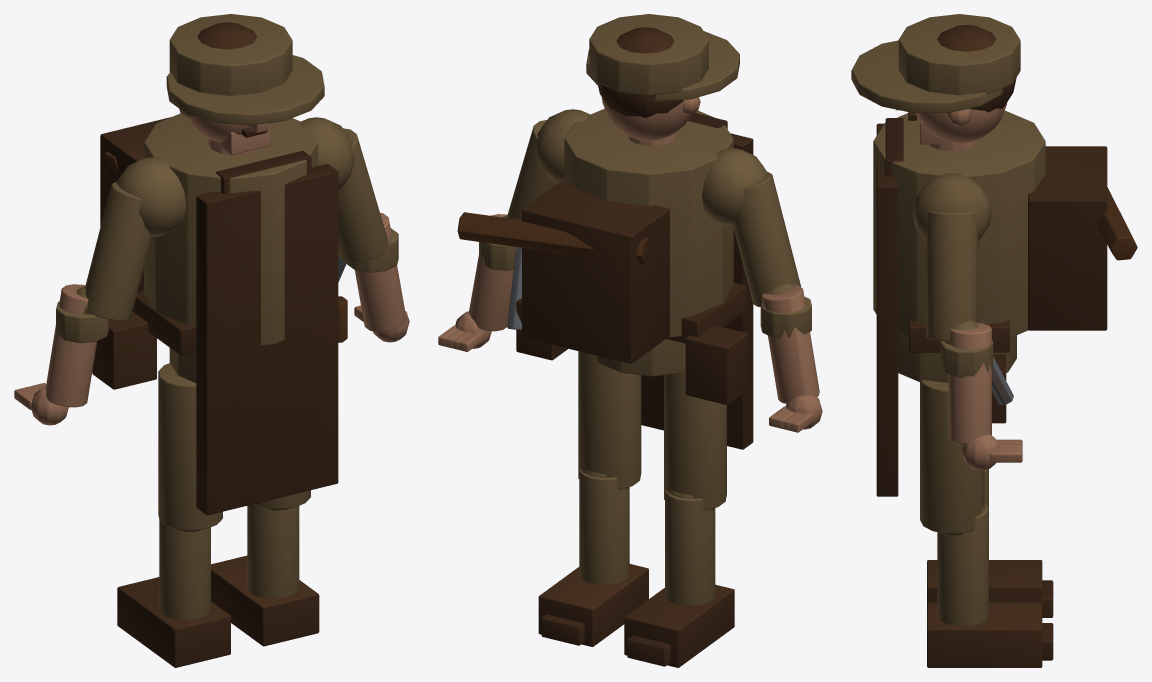
Rendered from unit_builder.fbx.
3 views of the same model, side by side, from view 1: azimuth 30°, elevation 25°; view 2: azimuth 150°, elevation 25°; view 3: azimuth 270°, elevation 25° (orthographic). The views are drawn at different scales.
Parts seen in each view (by area): view 1: unit_royal_builder; view 2: unit_royal_builder; view 3: unit_royal_builder.
Part boxes in pixels (x1,y1,x2,y2): unit_royal_builder: [14, 14, 409, 667]; unit_royal_builder: [438, 14, 822, 667]; unit_royal_builder: [851, 14, 1137, 667].
Size of the model in its own units: 1.18 by 1.85 by 0.7942.
